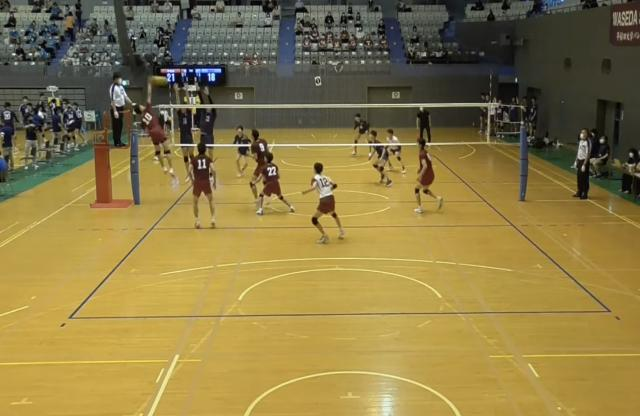spike: (132, 73, 179, 182)
